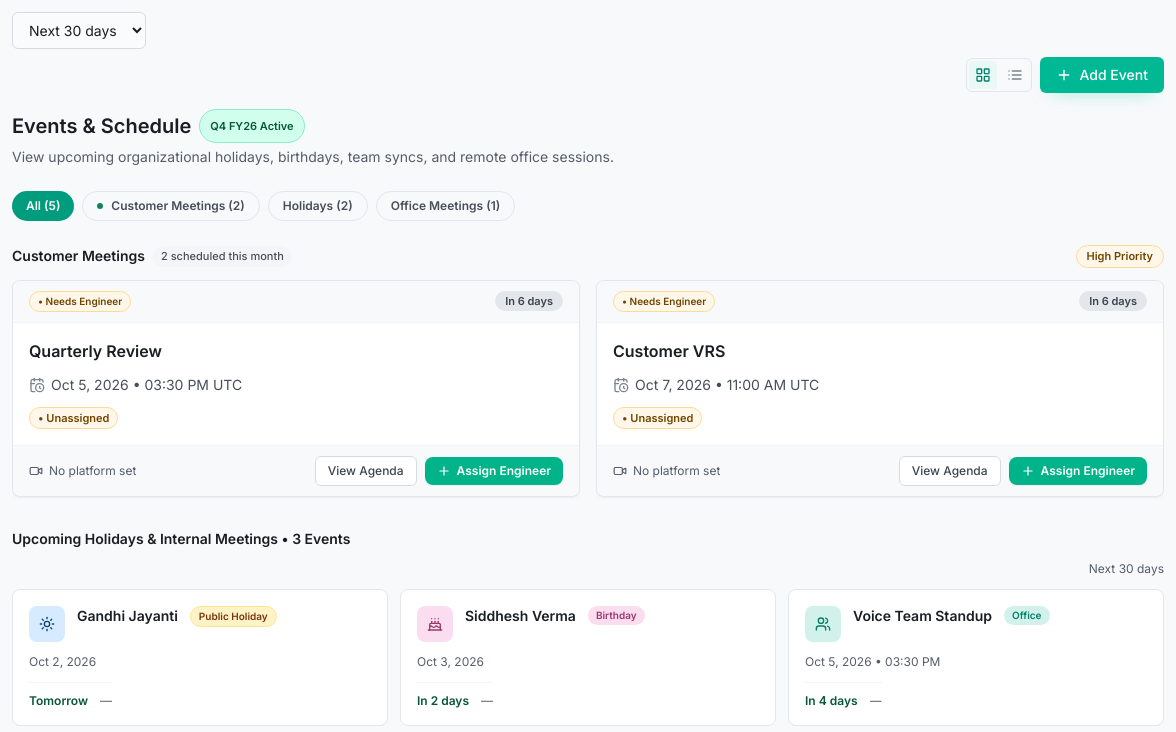
Test: EventsPage categorisation › shows only the Customer Meetings section when that pill is active
Expected: the button "Customer VRS" is shown, 613,338 -> 725,362
Click the tab "Customer Meetings (2)". click: (171, 206)
box: 82,191 -> 260,221
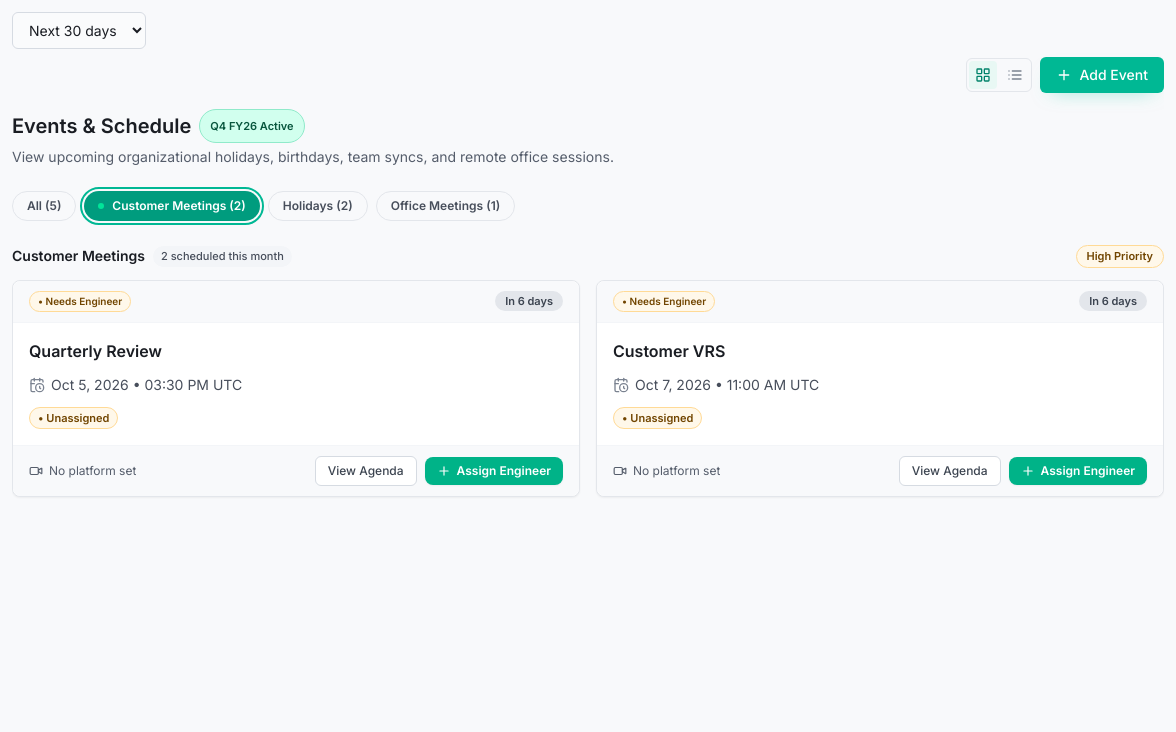
Expected: the heading "Customer Meetings" is shown, 12,246 -> 145,266
Expected: the heading "Upcoming Holidays & Internal Meetings" is gone
